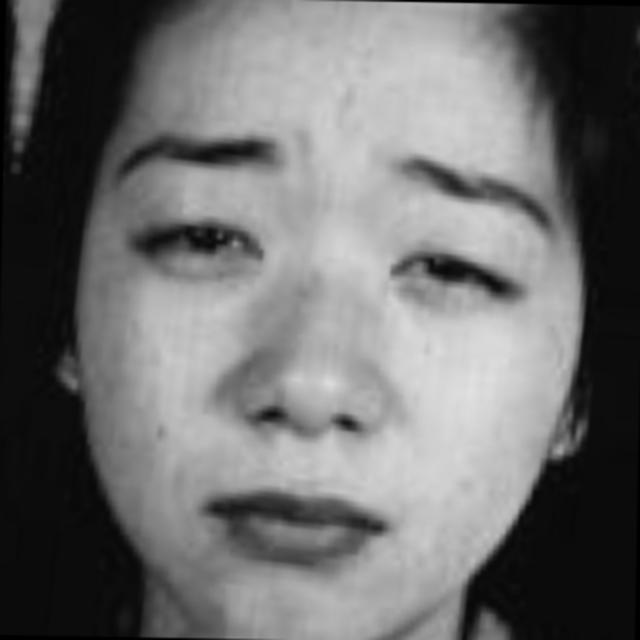sad: (50, 47, 561, 638)
